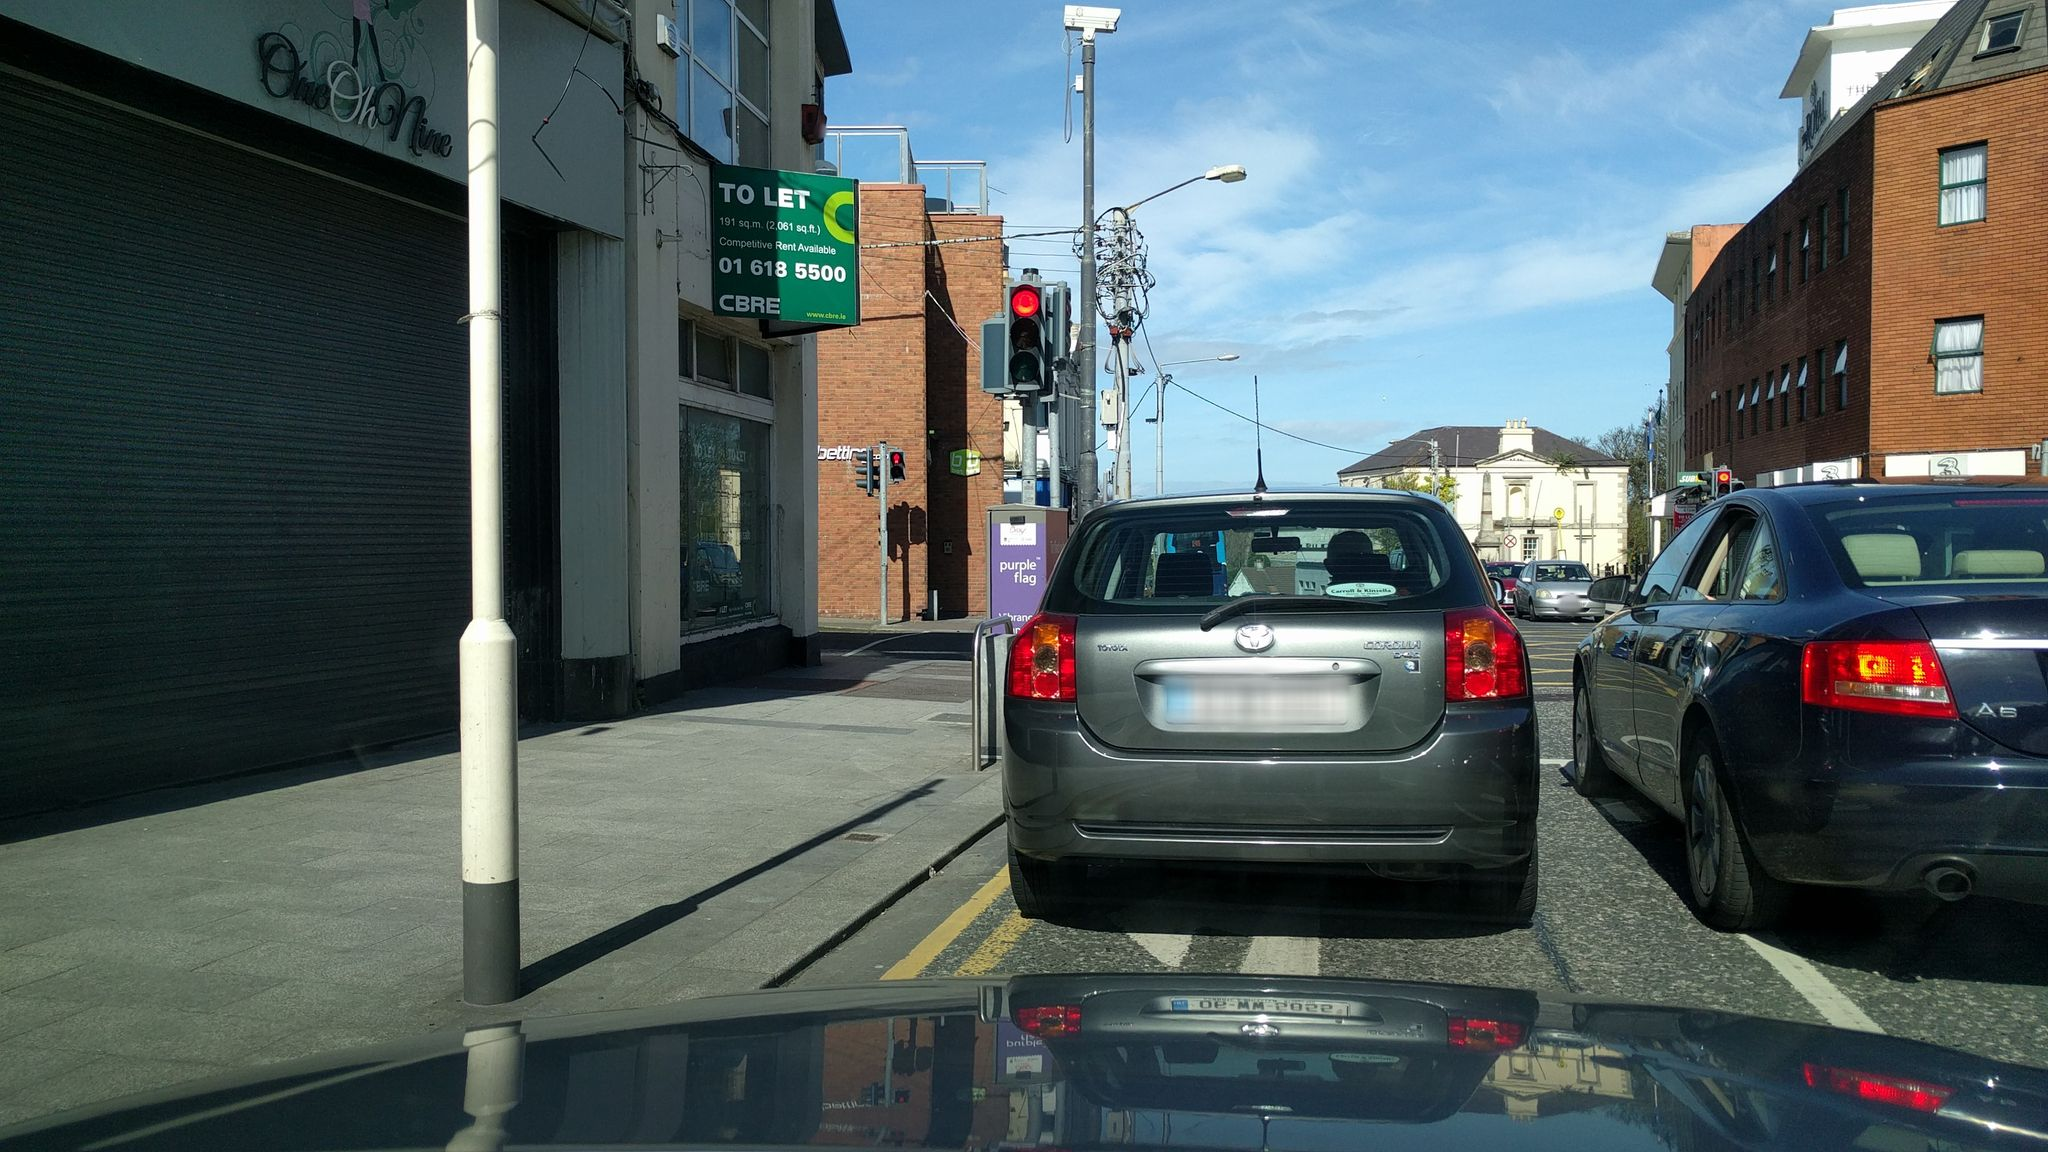property sign: (700, 151, 862, 346)
